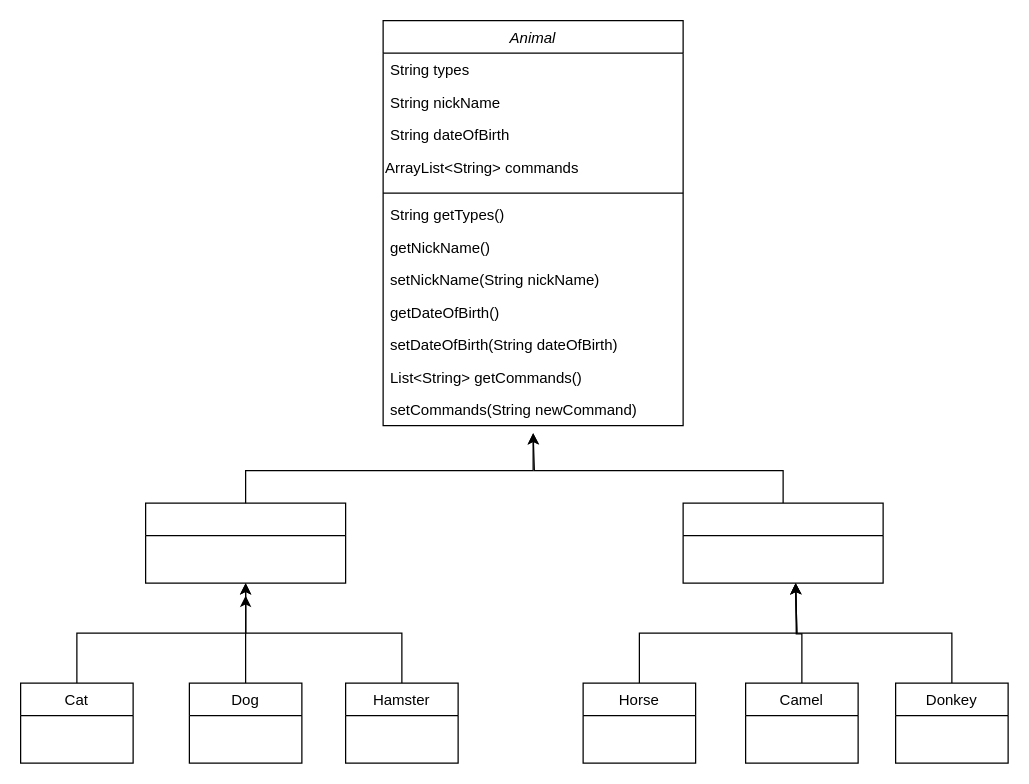
The diagram is 1029 pixels wide and 784 high, and some of its shapes have lost their labels. The centre of each missing label's shape, as x and y in pixels:
Pack animals: [782,542]
Pet: [245,542]
